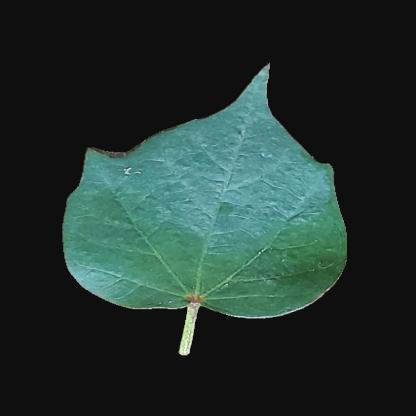healthy: (147, 137, 283, 307), (81, 193, 151, 279), (289, 207, 344, 277)
